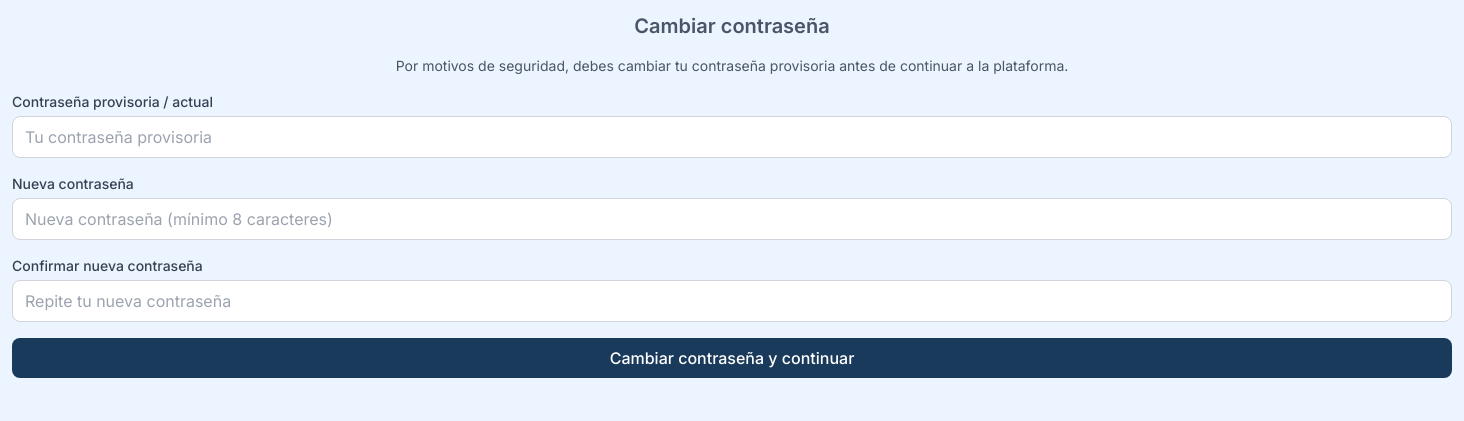
Test: ChangePasswordPage (relevo-web) › valida que la confirmación de contraseña coincida
Type "oldPass1" into the password field labelled "Contraseña provisoria / actual".
click(732, 137); type("oldPass1")  # box [12, 116, 1452, 158]
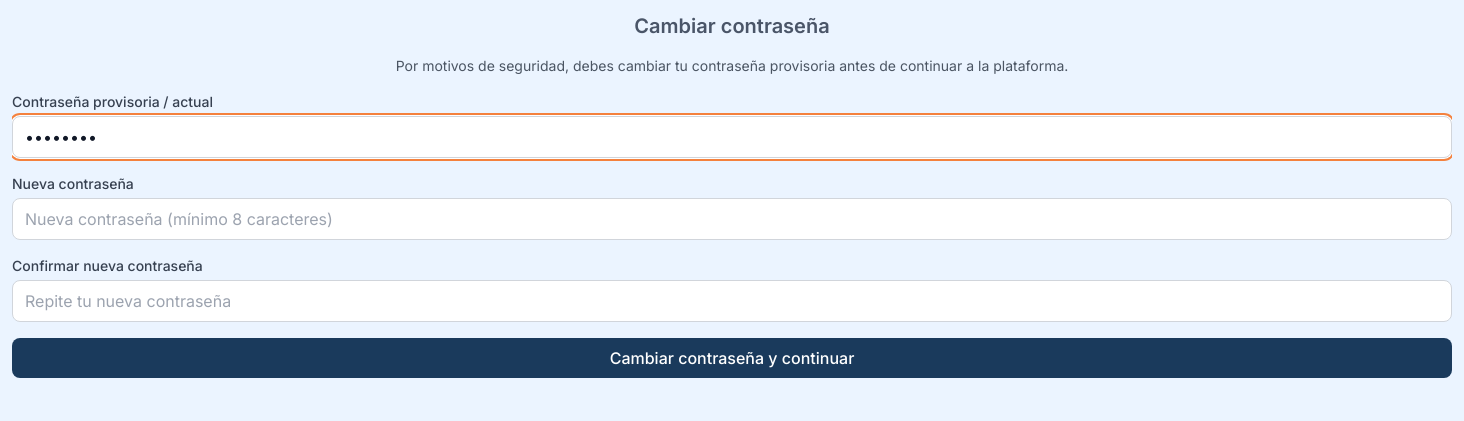
Type "newPass123" into the password field labelled "Nueva contraseña".
click(732, 219); type("newPass123")  # box [12, 198, 1452, 240]
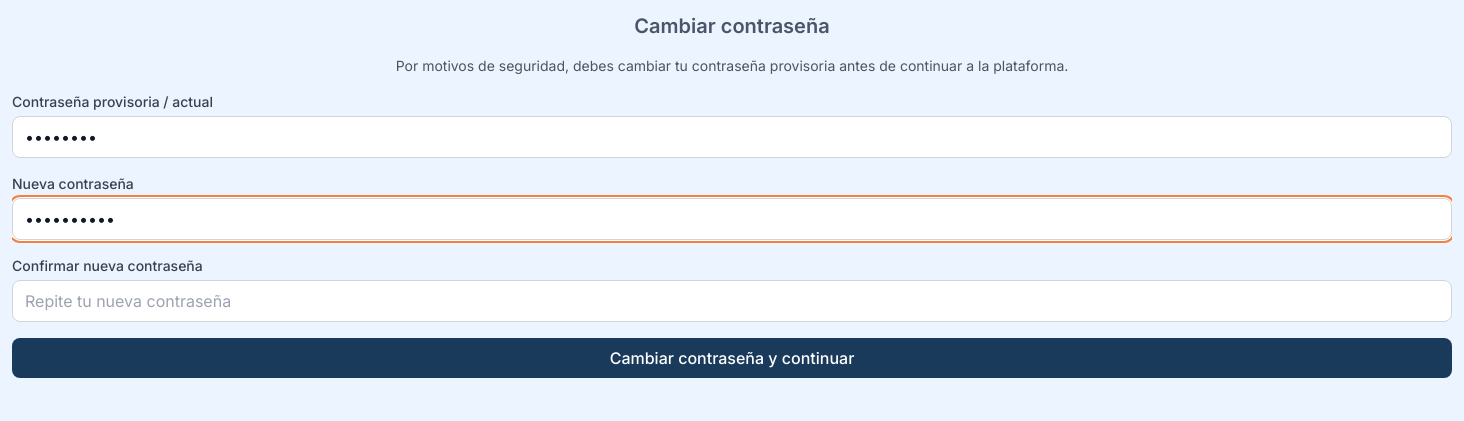
Type "differentPass" into the password field labelled "Confirmar nueva contraseña".
click(732, 301); type("differentPass")  # box [12, 280, 1452, 322]
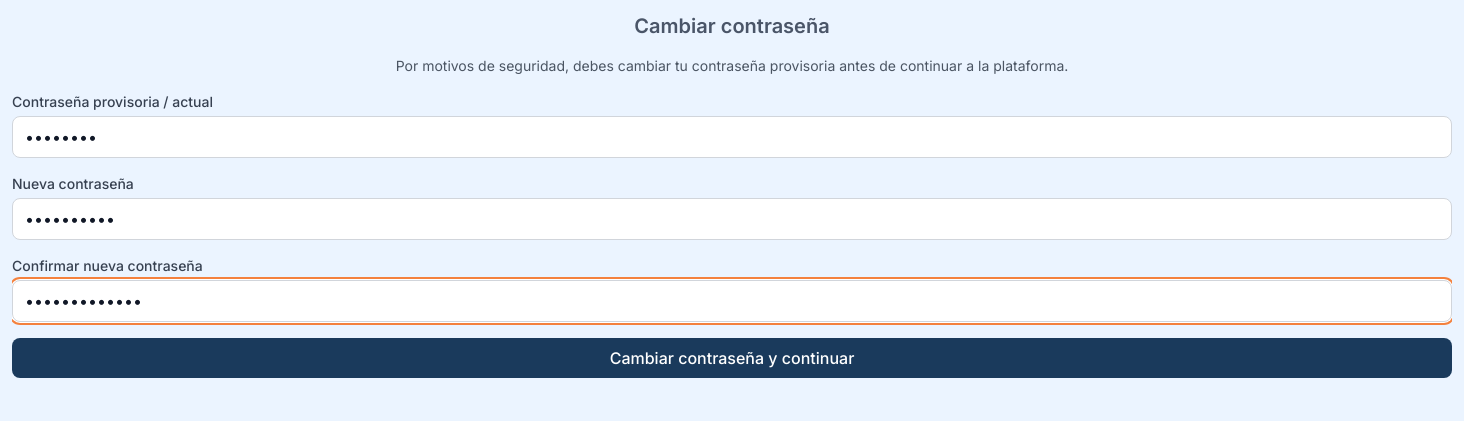
Click the button "Cambiar contraseña y continuar".
click(732, 358)  # box [12, 338, 1452, 378]
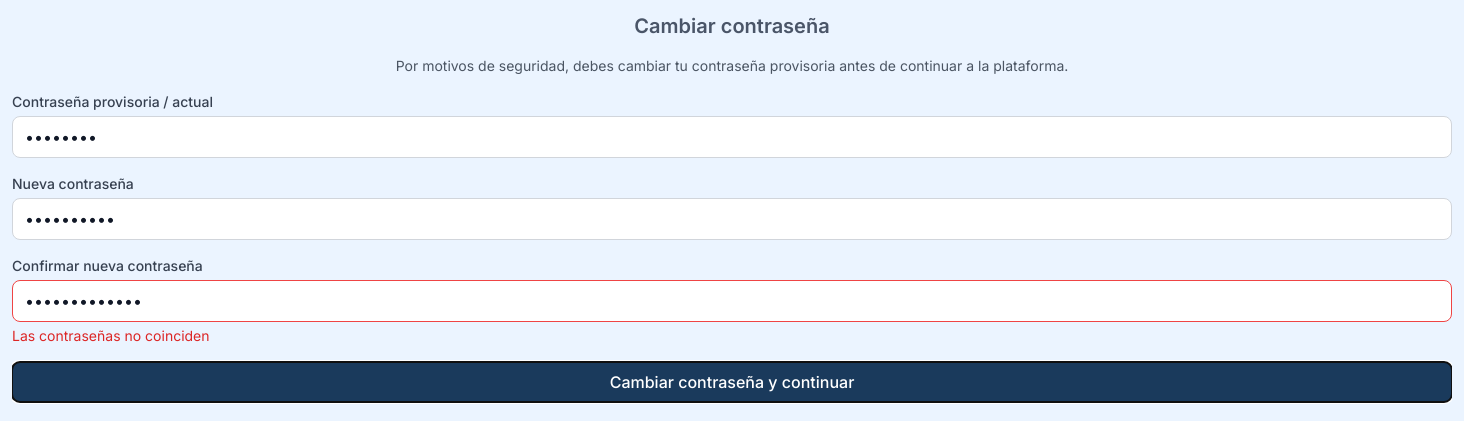
Expected: the text "Las contraseñas no coinciden" is shown, [12, 327, 210, 344]
